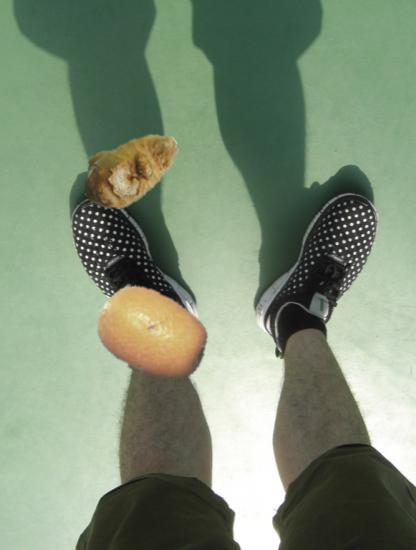Ginger: (78, 115, 183, 220)
Kumquats: (94, 276, 210, 392)
